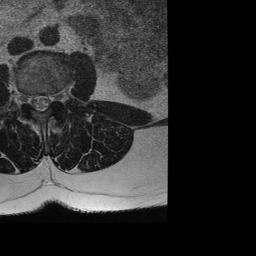CCS_normal: (37, 85, 44, 118)
LFS_normal: (51, 83, 59, 108)
LLS_normal: (44, 85, 51, 113)
RFS_normal: (21, 83, 30, 113)
RLS_normal: (29, 85, 37, 114)
